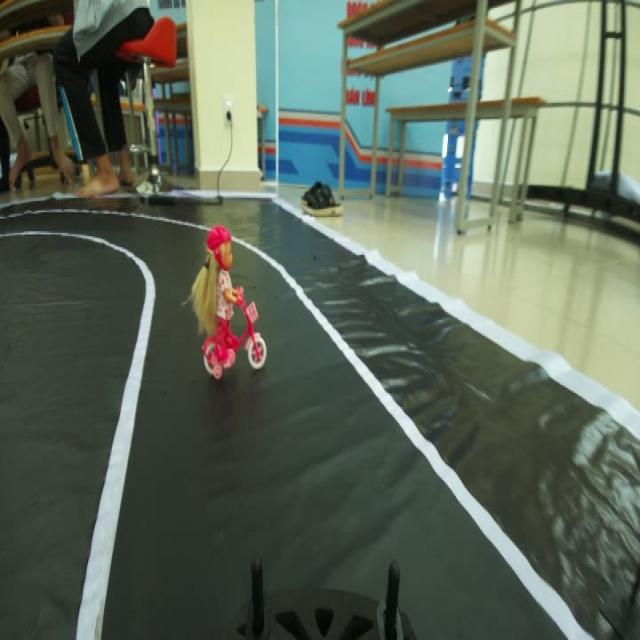pedestrian: (184, 227, 280, 369)
